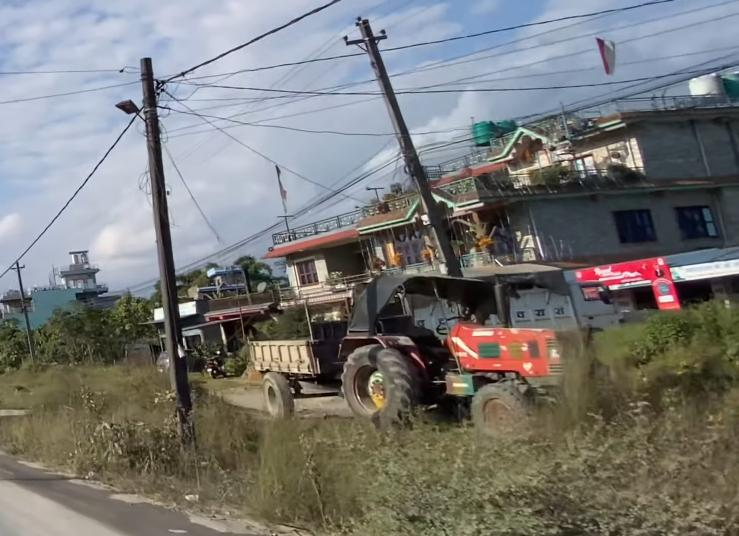tractor: (242, 273, 601, 458)
